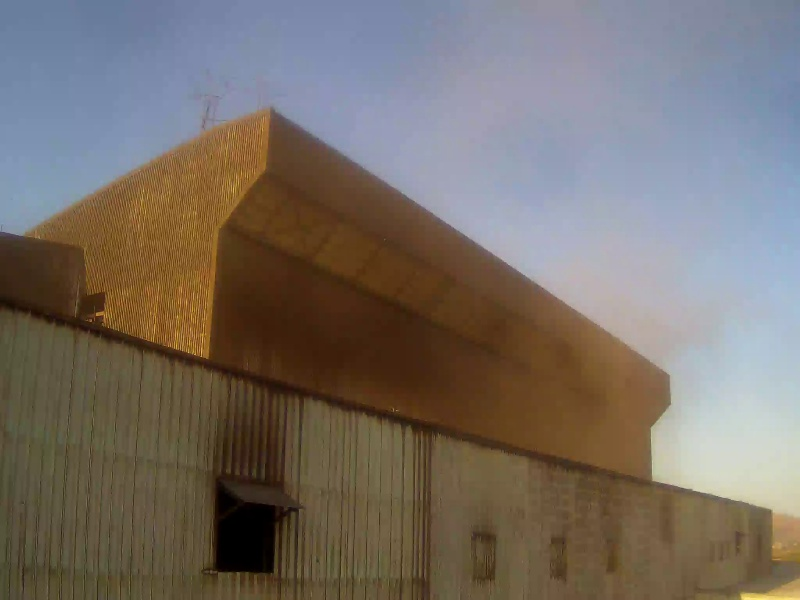Pessimo: (241, 100, 707, 502)
